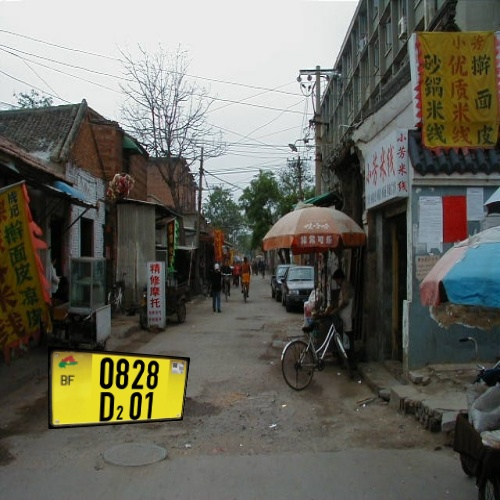plate: (41, 335, 209, 440)
